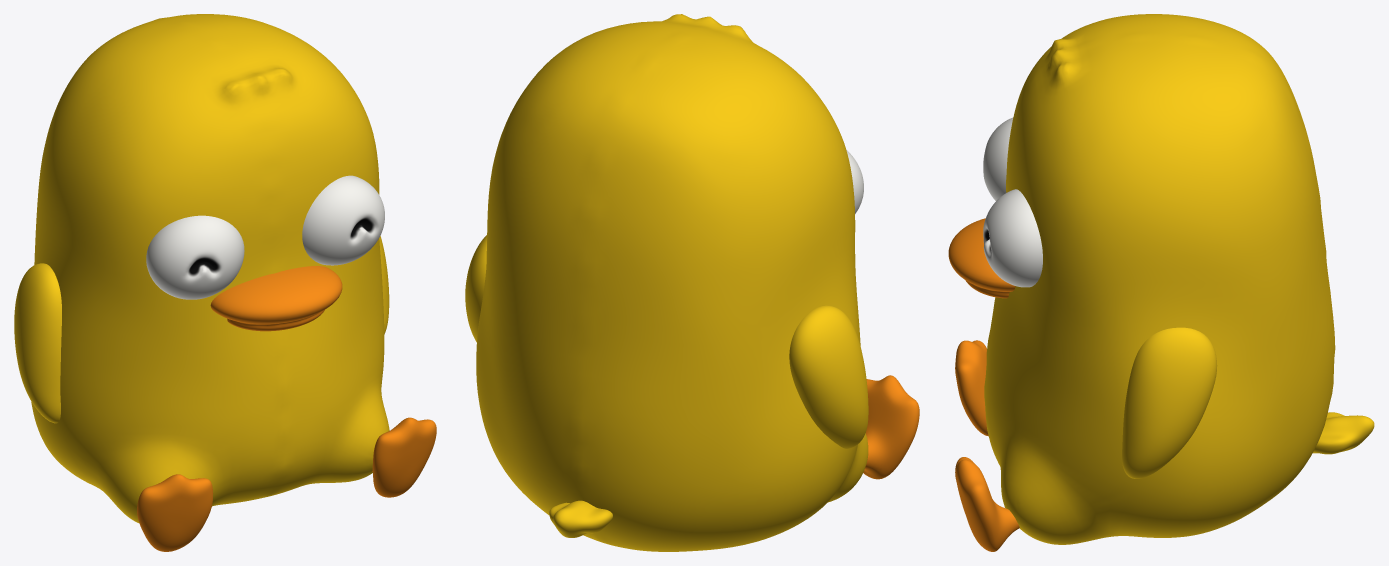
The model's file is ducky_momo.glb.
3 views of the same model, side by side, from view 1: azimuth 30°, elevation 25°; view 2: azimuth 150°, elevation 25°; view 3: azimuth 270°, elevation 25° (orthographic). The views are drawn at different scales.
Visible parts, largest first — view 1: BodyLow, EyesLow, FeetLow, WingsLow, BeakLow; view 2: BodyLow, WingsLow, FeetLow, TailLow; view 3: BodyLow, WingsLow, EyesLow, FeetLow, BeakLow, TailLow.
Part boxes in pixels (x1=…): BodyLow: x1=31, y1=14, x2=389, y2=523; EyesLow: x1=146, y1=175, x2=384, y2=299; FeetLow: x1=137, y1=417, x2=436, y2=551; WingsLow: x1=14, y1=236, x2=389, y2=423; BeakLow: x1=210, y1=266, x2=342, y2=331; BodyLow: x1=476, y1=14, x2=868, y2=551; WingsLow: x1=465, y1=235, x2=868, y2=448; FeetLow: x1=863, y1=375, x2=919, y2=479; TailLow: x1=549, y1=500, x2=612, y2=537; BodyLow: x1=984, y1=14, x2=1335, y2=544; WingsLow: x1=1122, y1=327, x2=1217, y2=478; EyesLow: x1=983, y1=117, x2=1042, y2=287; FeetLow: x1=955, y1=340, x2=1019, y2=551; BeakLow: x1=948, y1=218, x2=1015, y2=298; TailLow: x1=1313, y1=412, x2=1374, y2=454.
Size of the model in its own units: 5.57 by 6.52 by 5.39.
Materials: 3 (3 with a texture image).
